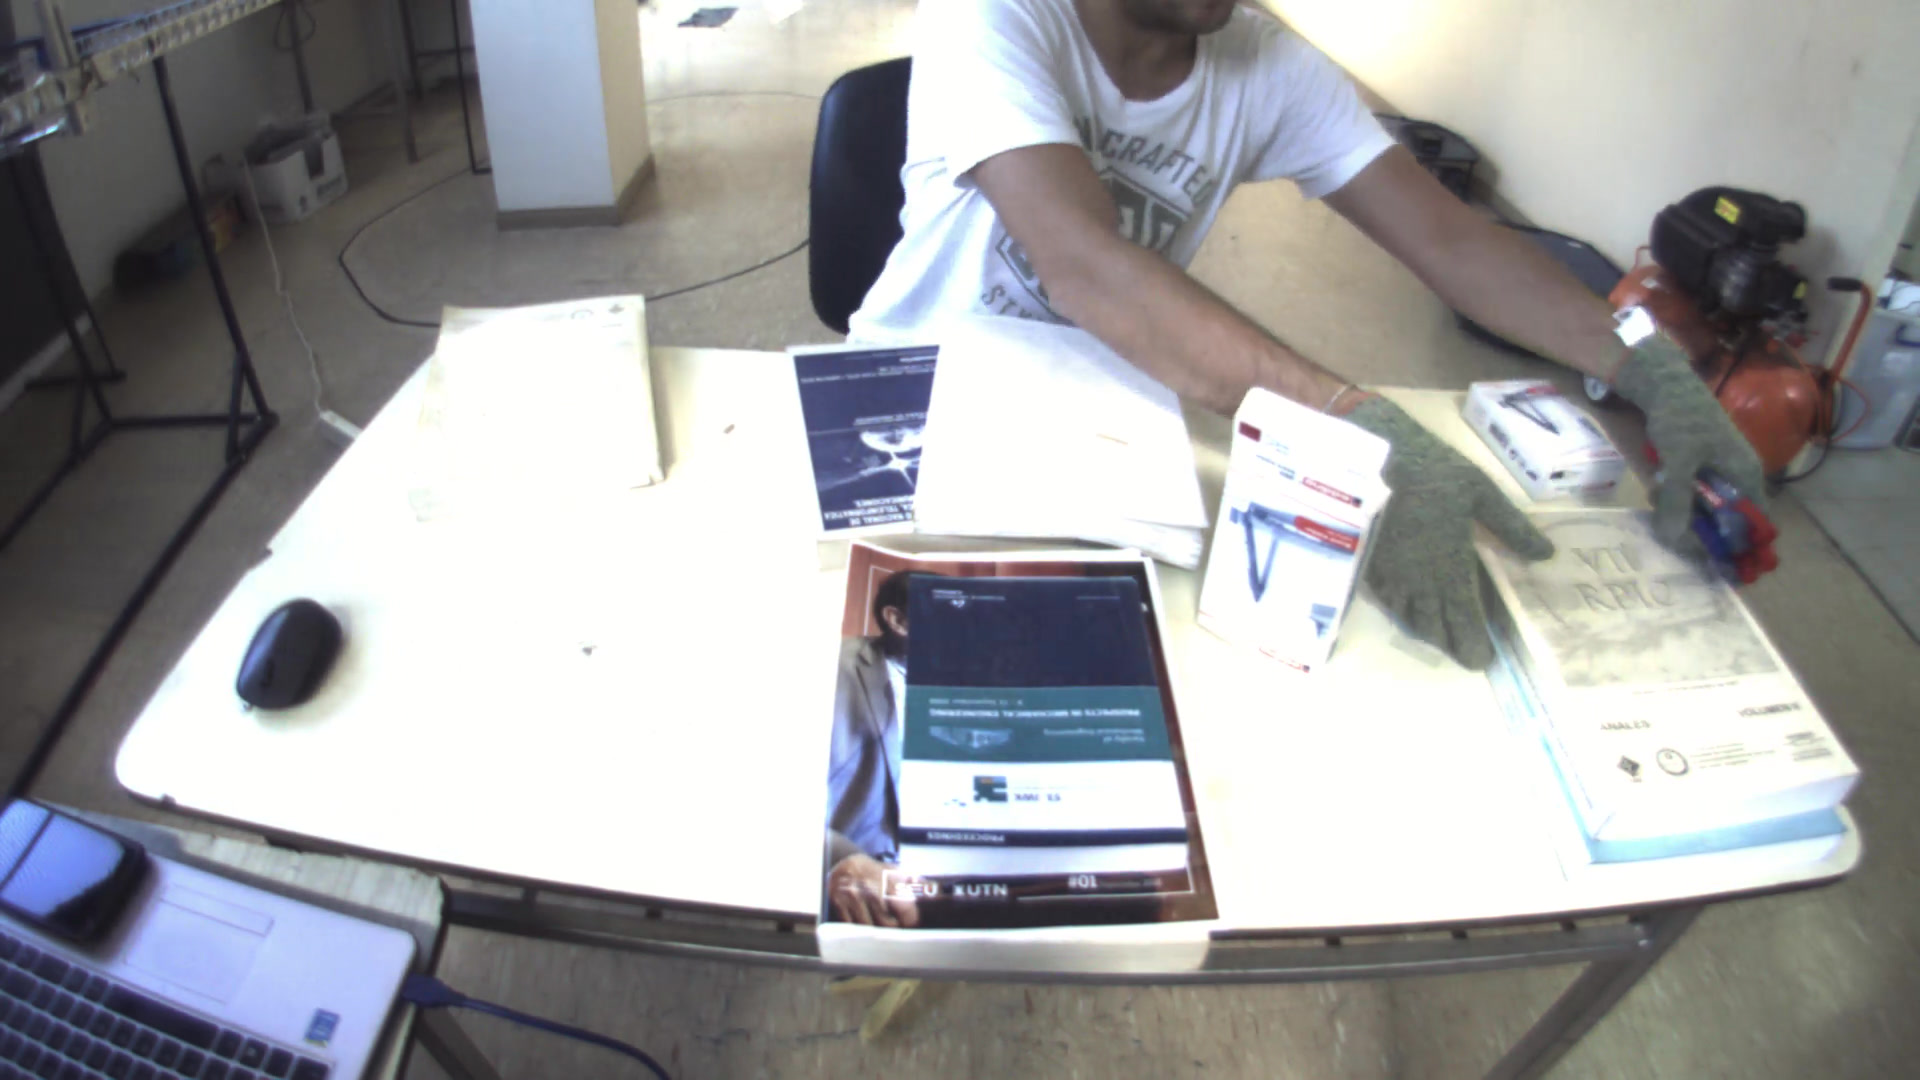hand: (1329, 393, 1555, 675), (1602, 338, 1779, 576)
